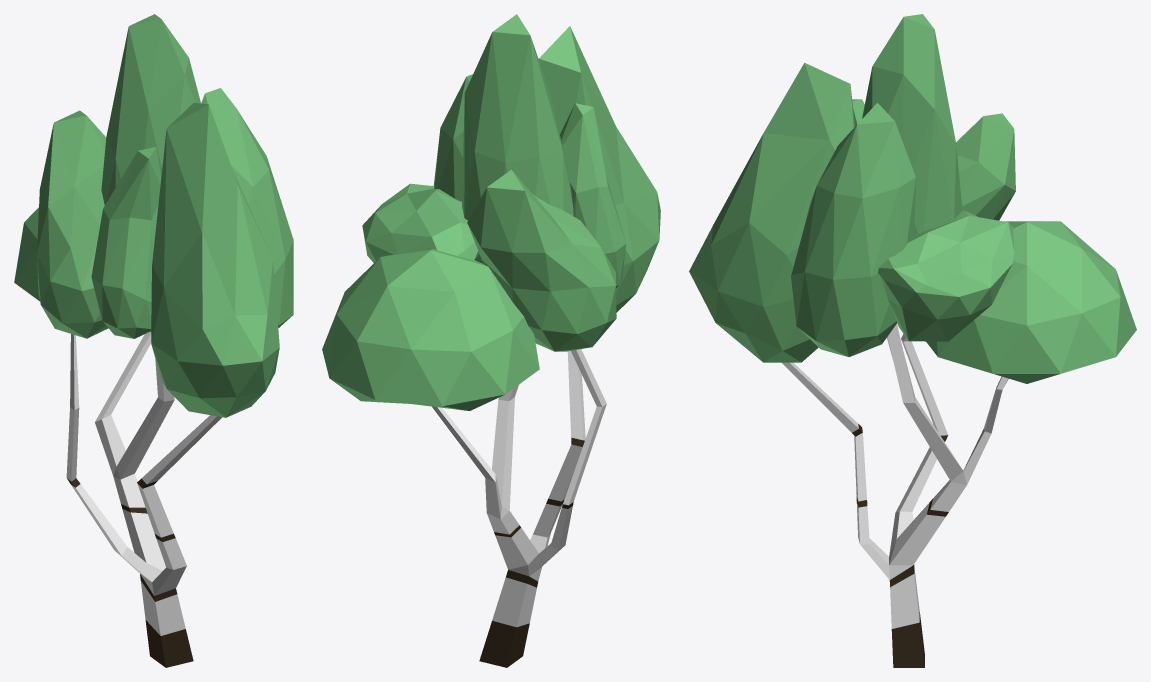
The model's file is BirchTree2.fbx.
3 views of the same model, side by side, from view 1: azimuth 30°, elevation 25°; view 2: azimuth 150°, elevation 25°; view 3: azimuth 270°, elevation 25° (orthographic).
Parts seen in each view (by area): view 1: Cube; view 2: Cube; view 3: Cube.
Boxes of the visible parts, <box> form: Cube: <box>14,14,293,667</box>; Cube: <box>322,14,660,667</box>; Cube: <box>689,14,1136,667</box>.
Bounding box in the file's own units: 425 × 1129 × 718.
